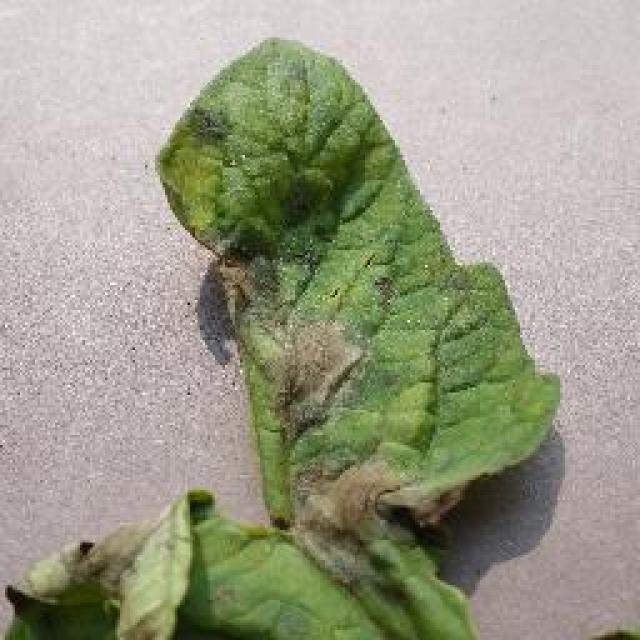Tomato Late Blight: (134, 113, 438, 567)
